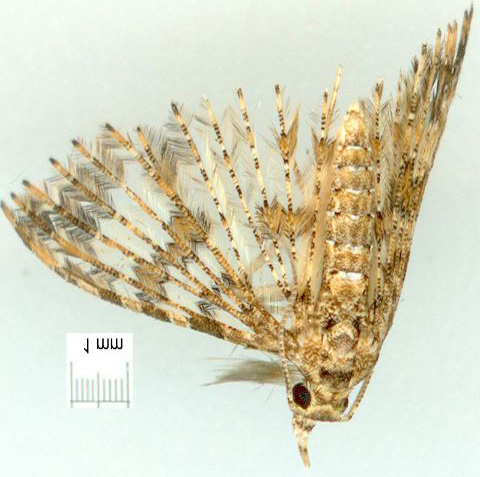Alucitidae: (1, 1, 472, 466)
moth: (3, 3, 474, 468)
